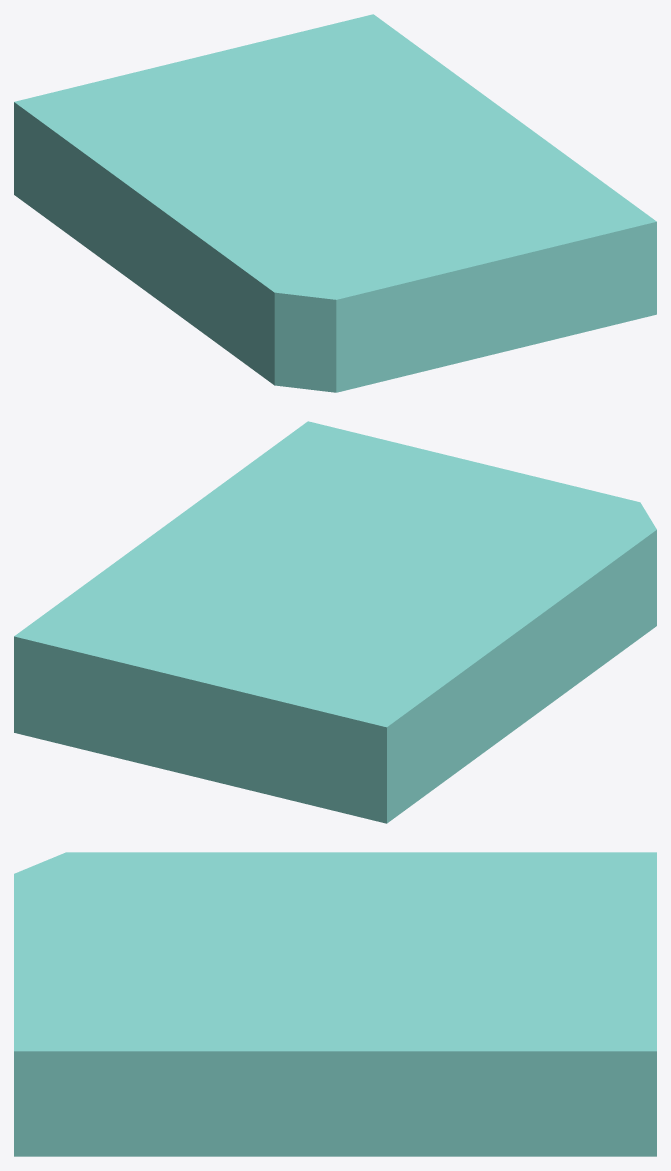
Rendered from DinerFloorLeft_Collision.fbx.
3 renders of one model, top to bottom at view 1: azimuth 30°, elevation 25°; view 2: azimuth 150°, elevation 25°; view 3: azimuth 270°, elevation 25°, orthographic. The views are drawn at different scales.
Parts seen in each view (by area): view 1: DinerFloorLeft_Collision; view 2: DinerFloorLeft_Collision; view 3: DinerFloorLeft_Collision.
Boxes of the visible parts, x1,y1,x2,y2 form: DinerFloorLeft_Collision: (14, 14, 656, 392); DinerFloorLeft_Collision: (14, 421, 656, 823); DinerFloorLeft_Collision: (14, 852, 656, 1156).
Size of the model in its own units: 5.55 by 1.37 by 7.58.
